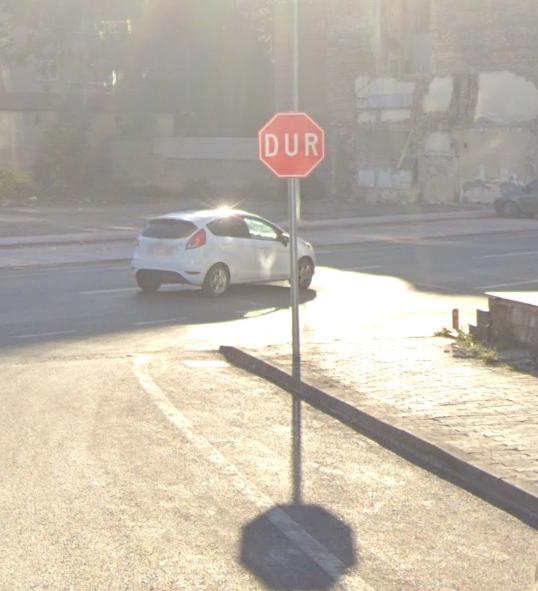stop: (261, 112, 325, 180)
